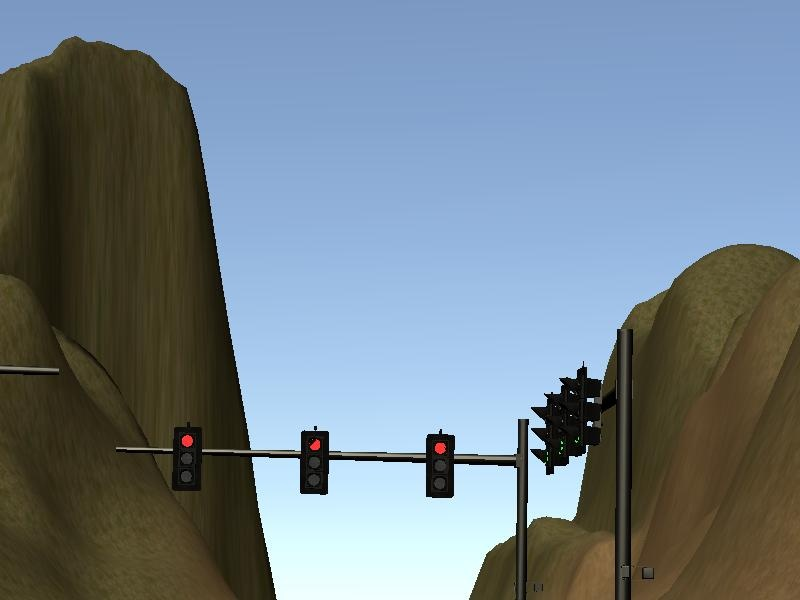traffic_light_red: (157, 419, 518, 502)
